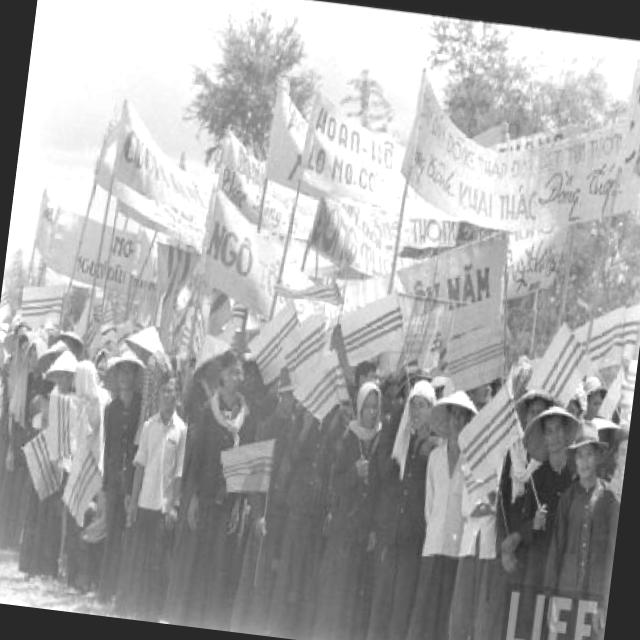Person: (0, 313, 606, 640), (537, 402, 619, 626), (606, 430, 628, 508)
